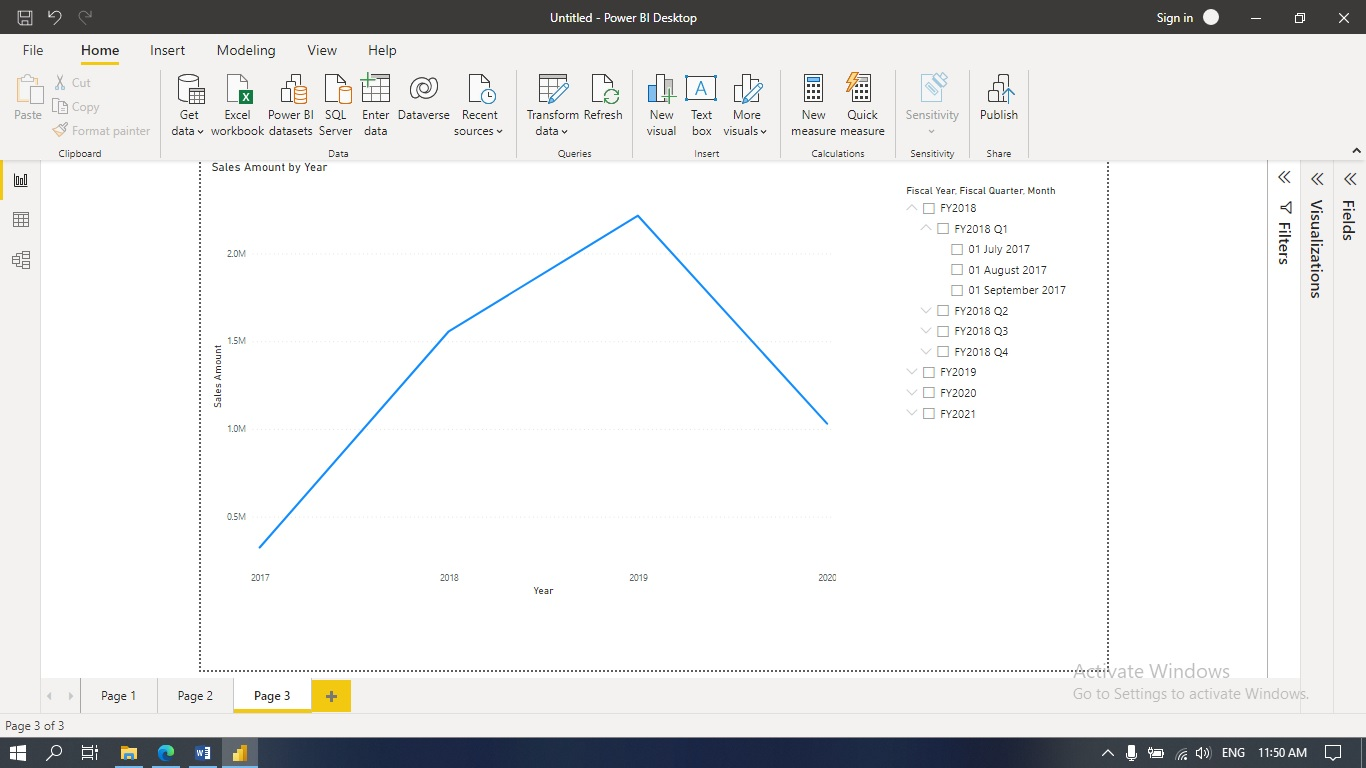

Layout of this report page (visuals, bound fields, positions):
{"tool":"powerbi","page":{"name":"Page 3","canvas":[1280,720],"ordinal":2},"visuals":[{"type":"lineChart","fields":{"Y":["Sum(Sales.Sales Amount)"],"Category":["Date.Month.Variation.Date Hierarchy.Year","Date.Month.Variation.Date Hierarchy.Quarter","Date.Month.Variation.Date Hierarchy.Month","Date.Month.Variation.Date Hierarchy.Day"]},"box":[9.9,0,892.2,621.2],"z":0},{"type":"slicer","fields":{"Values":["Date.Time.Fiscal Year","Date.Time.Fiscal Quarter","Date.Time.Month"]},"box":[902.1,24,378.4,639.5],"z":1000}]}

Visuals, with their boxes on the page's 1280x720 design canvas (x1, y1, x2, y2). These are canvas units, not pixel positions in the 1366x768 screenshot, which may show the page scaled, cropped or inside an application window:
lineChart - Sum(Sales.Sales Amount) x Date.Month.Variation.Date Hierarchy.Year: l=10, t=0, r=902, b=621
slicer - Date.Time.Fiscal Year x Date.Time.Fiscal Quarter: l=902, t=24, r=1280, b=664
